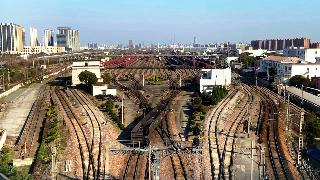train: (131, 98, 172, 148), (192, 76, 199, 82)
